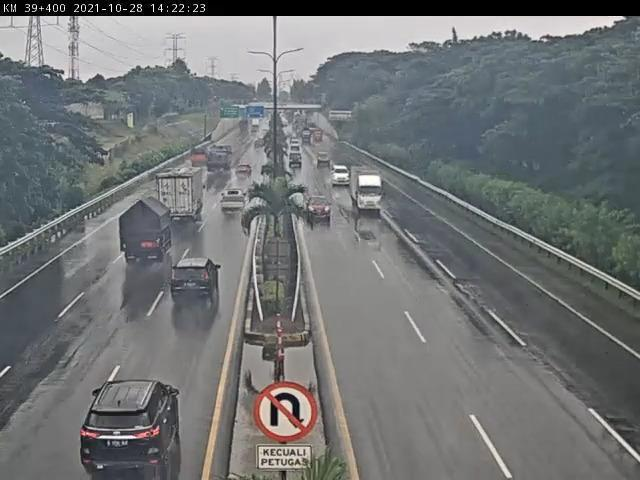car: (80, 376, 185, 480), (171, 257, 224, 301), (219, 187, 249, 216), (308, 195, 334, 221), (329, 164, 353, 188), (237, 164, 254, 178)
truck: (118, 197, 174, 267), (157, 171, 202, 224), (349, 164, 386, 212)
